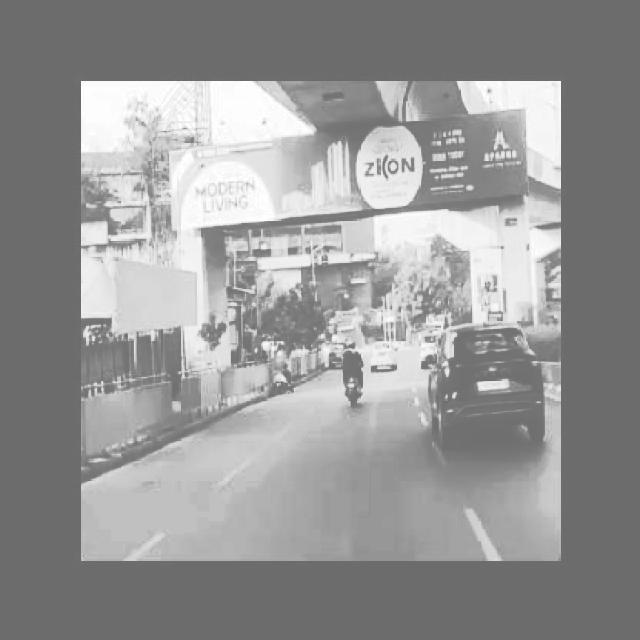Car: (423, 326, 548, 468), (370, 332, 402, 383)
